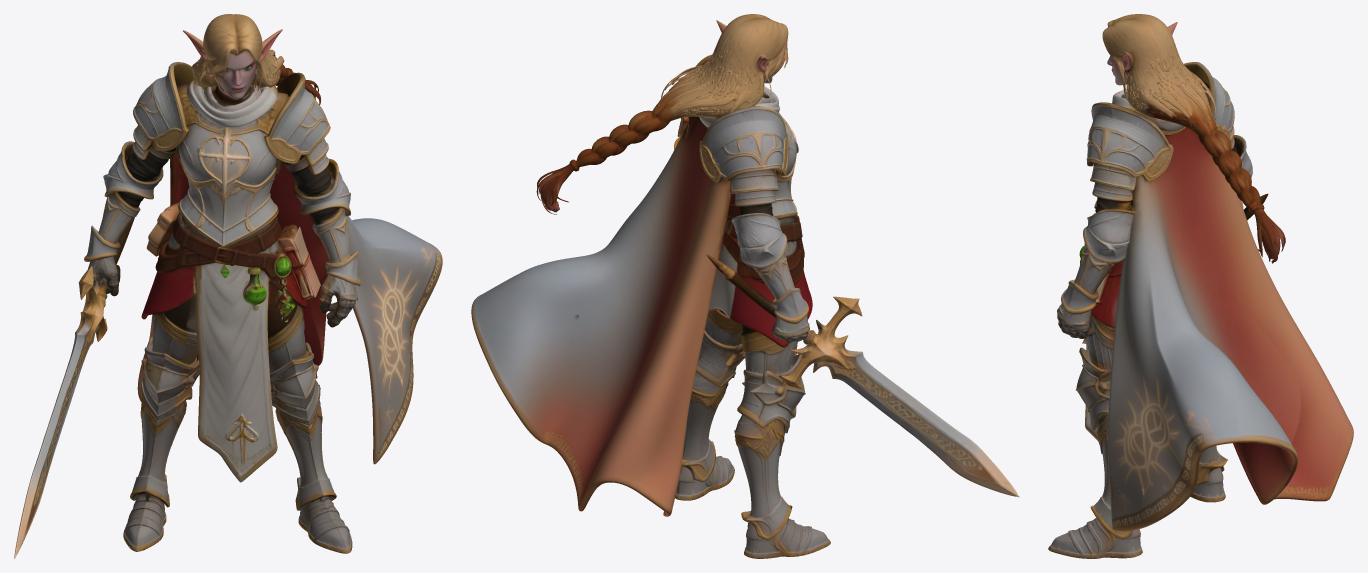
Rendered from half_elf_paladin_full_female_01.glb.
The picture shows the model from 3 angles, left to right: view 1: azimuth 30°, elevation 25°; view 2: azimuth 150°, elevation 25°; view 3: azimuth 270°, elevation 25°; orthographic projection. The views are drawn at different scales.
Parts seen in each view (by area): view 1: material; view 2: material; view 3: material.
Boxes of the visible parts, left/top/right/bottom form: material: left=14, top=14, right=442, bottom=558; material: left=471, top=14, right=1019, bottom=558; material: left=1048, top=14, right=1353, bottom=558.
Bounding box in the file's own units: 0.8983 × 0.8995 × 0.4988.
1 material, 1 textured.
